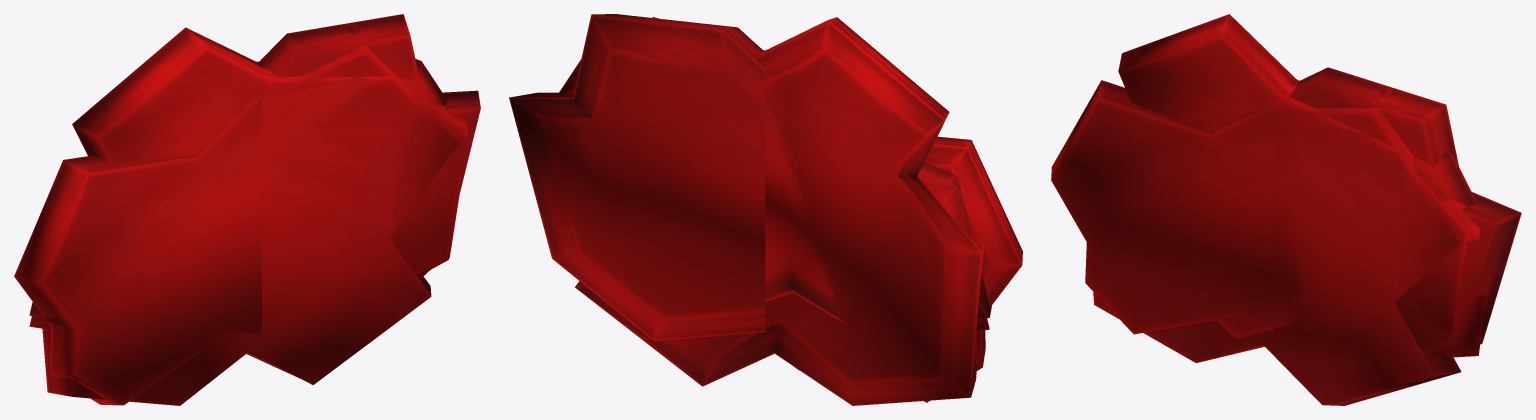
File: Phagocyte.FBX
3 renders of one model, left to right at view 1: azimuth 30°, elevation 25°; view 2: azimuth 150°, elevation 25°; view 3: azimuth 330°, elevation 25°, orthographic. The views are drawn at different scales.
Parts seen in each view (by area): view 1: PlateletB, PlateletA, PlateletD, PlateletC; view 2: PlateletA, PlateletB, PlateletD, PlateletC; view 3: PlateletB, PlateletA, PlateletC, PlateletD.
Boxes of the visible parts, x1,y1,x2,y2 form: PlateletB: [42, 27, 459, 405]; PlateletA: [14, 14, 480, 405]; PlateletD: [29, 58, 467, 328]; PlateletC: [29, 24, 467, 324]; PlateletA: [509, 14, 1022, 402]; PlateletB: [575, 17, 984, 405]; PlateletD: [557, 59, 989, 331]; PlateletC: [564, 17, 991, 370]; PlateletB: [1093, 14, 1461, 405]; PlateletA: [1051, 67, 1521, 356]; PlateletC: [1208, 88, 1480, 338]; PlateletD: [1273, 111, 1486, 357].
Size of the model in its own units: 33.55 by 25.65 by 3.69.
